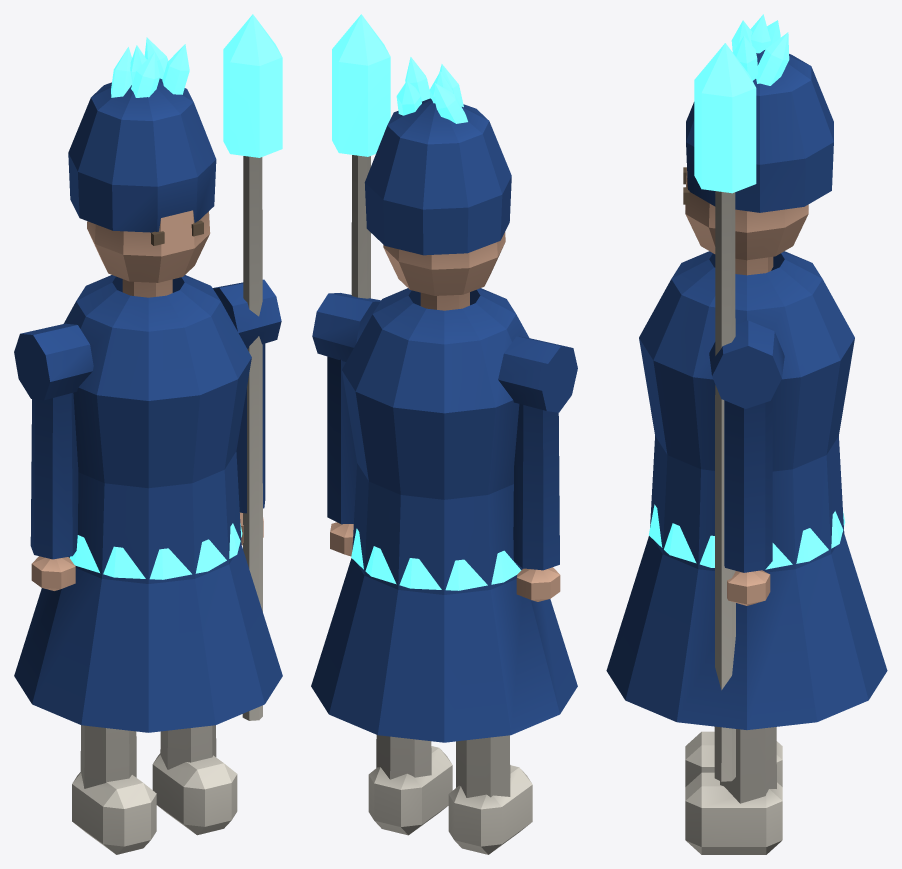
The model's file is unit_kriomag.glb.
3 views of the same model, side by side, from view 1: azimuth 30°, elevation 25°; view 2: azimuth 150°, elevation 25°; view 3: azimuth 270°, elevation 25° (orthographic). The views are drawn at different scales.
Parts seen in each view (by area): view 1: unit_kriomag; view 2: unit_kriomag; view 3: unit_kriomag.
Boxes of the visible parts, x1,y1,x2,y2 form: unit_kriomag: [14, 14, 282, 854]; unit_kriomag: [311, 14, 577, 854]; unit_kriomag: [606, 14, 887, 854].
Bounding box in the file's own units: 0.2643 × 0.85 × 0.26.
